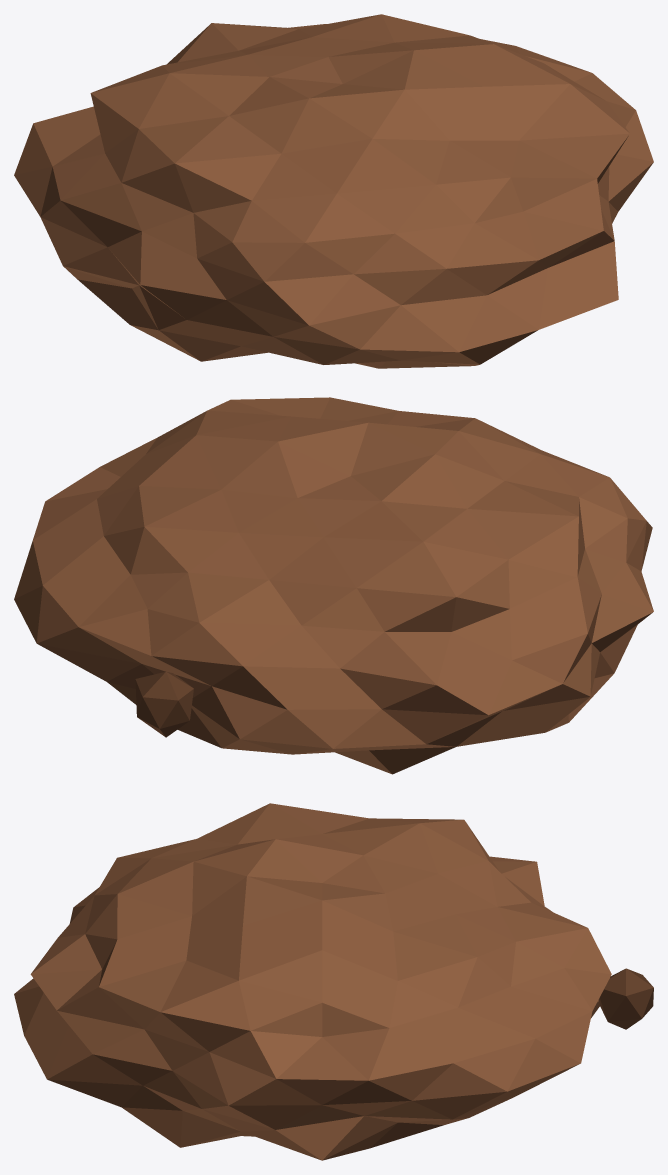
Rendered from mound.glb.
3 views of the same model, one above another, from view 1: azimuth 30°, elevation 25°; view 2: azimuth 150°, elevation 25°; view 3: azimuth 270°, elevation 25° (orthographic). The views are drawn at different scales.
Visible parts, largest first — view 1: Heap; view 2: Heap, Clod0; view 3: Heap, Clod0.
Part boxes in pixels (x1,y1,x2,y2): Heap: (14,14,653,368); Heap: (14,397,653,774); Clod0: (135,671,193,737); Heap: (14,803,611,1160); Clod0: (598,968,653,1029).
Size of what is drawn, in the model's own units: 1.52 by 0.6532 by 1.66.
